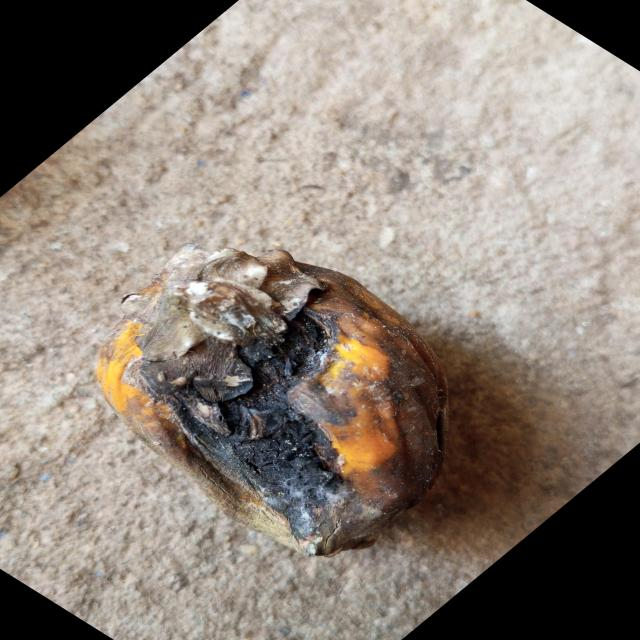damaged: (97, 244, 447, 555)
